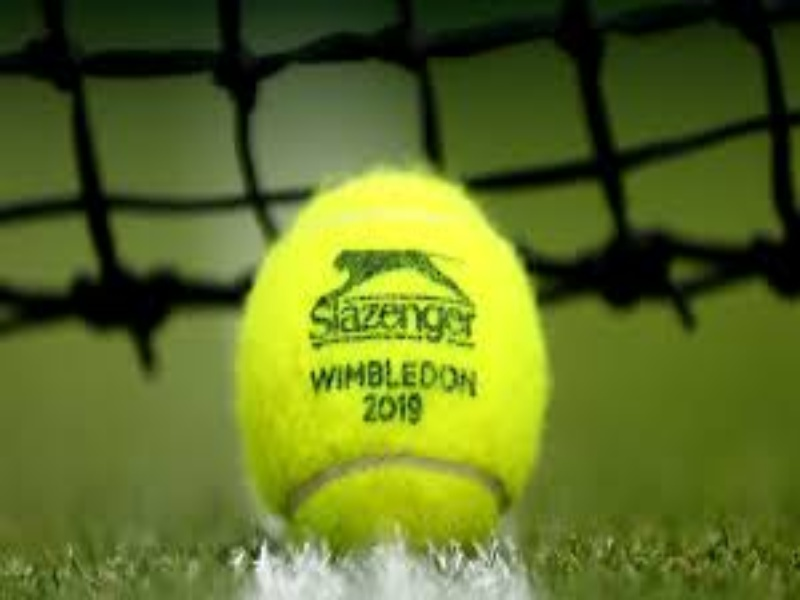tennis ball: (233, 140, 565, 554)
